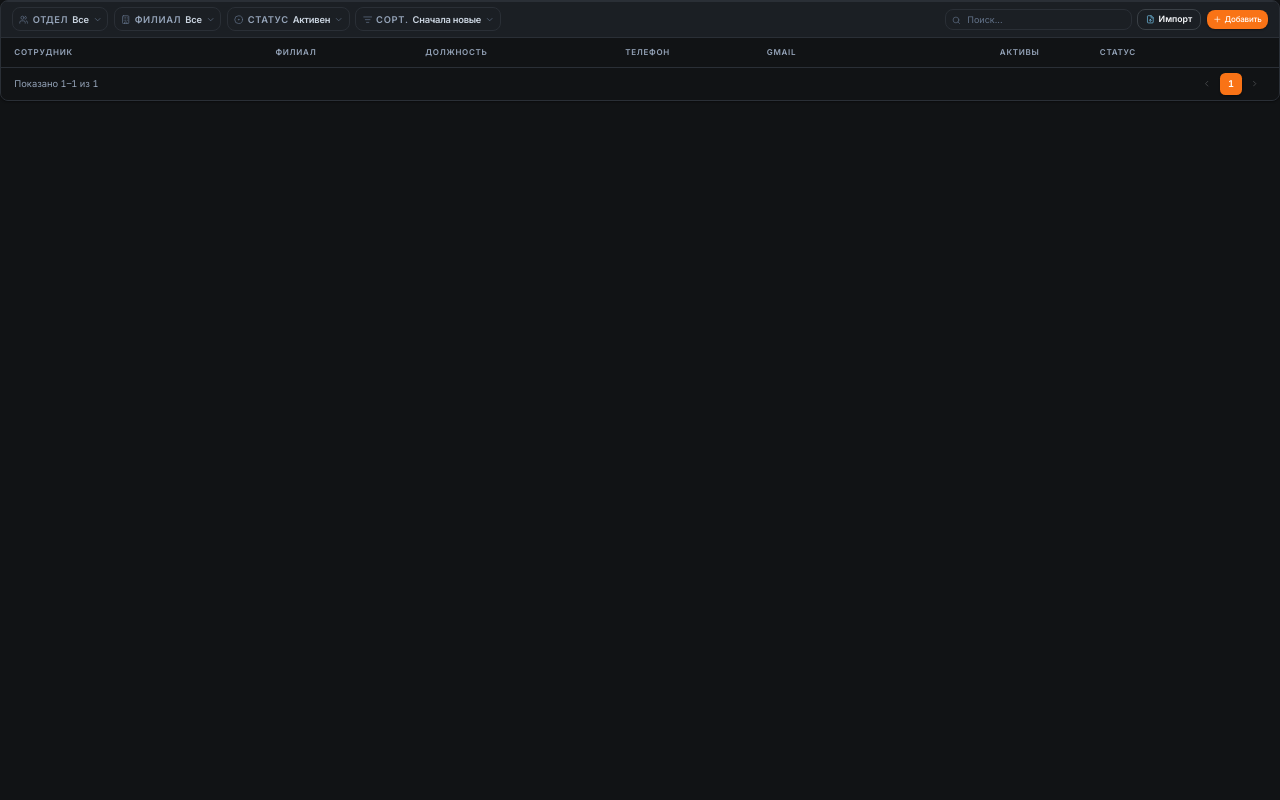
Test: EmployeesPage › clicking Добавить opens the create modal
// Find and click the "Добавить сотрудника" button
Click the button "Добавить": {"x": 1238, "y": 19} [1207,10,1268,29]
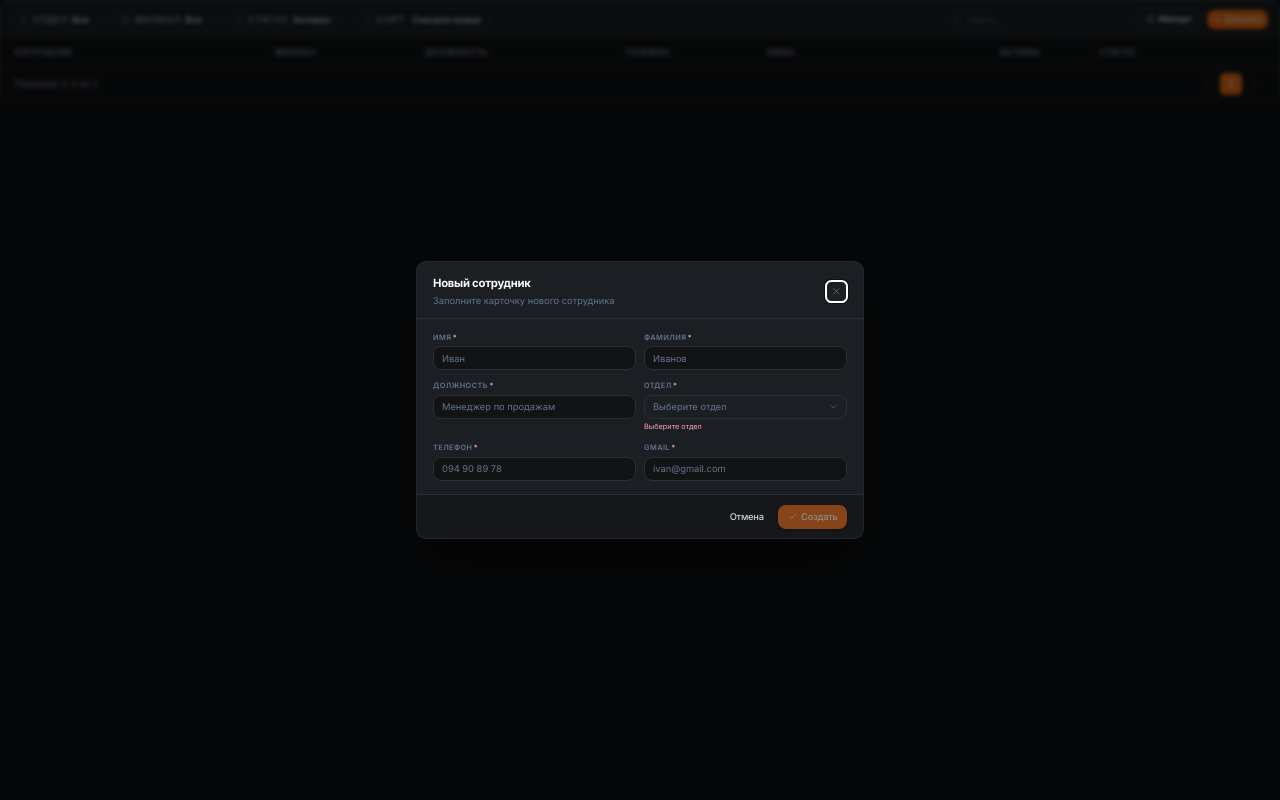
expect the text "Новый сотрудник" is shown: met, box [433,276,530,290]
